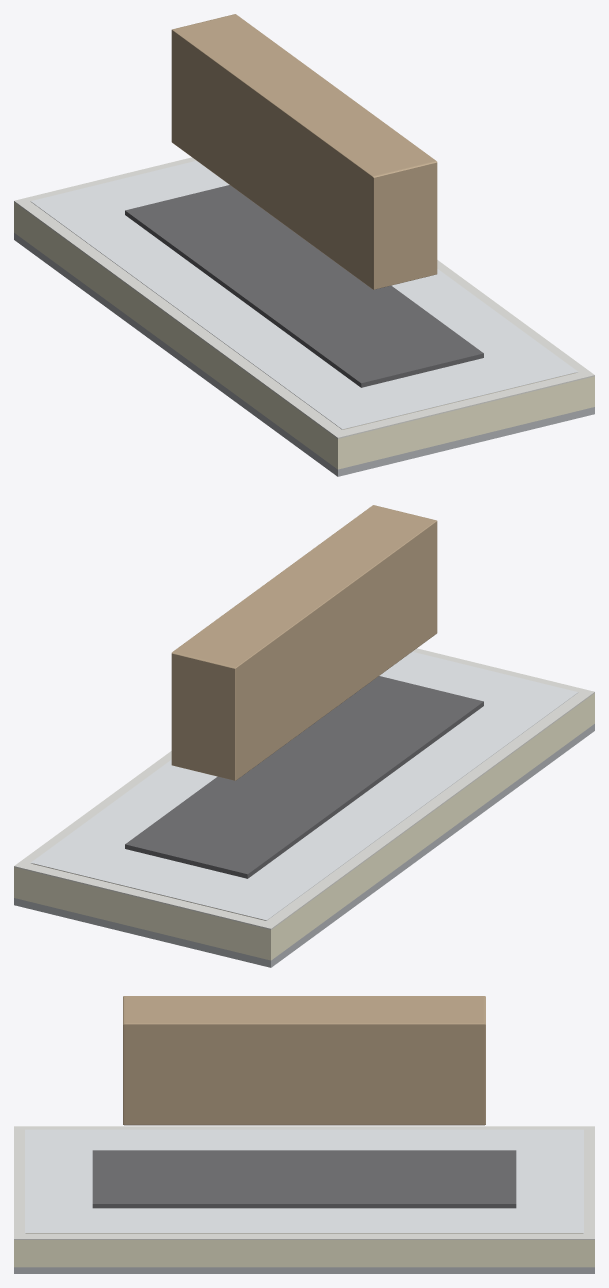
The model's file is sleeper-support-CS-8-TYP.glb.
3 views of the same model, one above another, from view 1: azimuth 30°, elevation 25°; view 2: azimuth 150°, elevation 25°; view 3: azimuth 270°, elevation 25° (orthographic). The views are drawn at different scales.
Visible parts, largest first — view 1: existing__unit_sleeper, topcoat__field_coat, existing__walkpad, existing__insulation, existing__membrane, existing__steel_deck; view 2: existing__unit_sleeper, topcoat__field_coat, existing__walkpad, existing__insulation, existing__membrane, existing__steel_deck; view 3: existing__unit_sleeper, topcoat__field_coat, existing__walkpad, existing__insulation, existing__membrane, existing__steel_deck, primer__field_coat.
Part boxes in pixels (x1,y1,x2,y2): existing__unit_sleeper: (171, 14, 437, 289); topcoat__field_coat: (30, 160, 577, 429); existing__walkpad: (125, 185, 483, 387); existing__insulation: (14, 202, 594, 469); existing__membrane: (14, 157, 594, 438); existing__steel_deck: (14, 233, 594, 476); existing__unit_sleeper: (171, 505, 437, 780); topcoat__field_coat: (31, 651, 578, 920); existing__walkpad: (125, 676, 483, 878); existing__insulation: (14, 693, 594, 960); existing__membrane: (14, 648, 594, 929); existing__steel_deck: (14, 724, 594, 967); existing__unit_sleeper: (123, 996, 485, 1125); topcoat__field_coat: (25, 1129, 583, 1233); existing__walkpad: (92, 1150, 516, 1208); existing__insulation: (14, 1240, 594, 1267); existing__membrane: (14, 1126, 594, 1239); existing__steel_deck: (14, 1267, 594, 1273); primer__field_coat: (26, 1233, 582, 1233).
Size of the model in its own units: 0.5588 by 0.4811 by 1.22.
